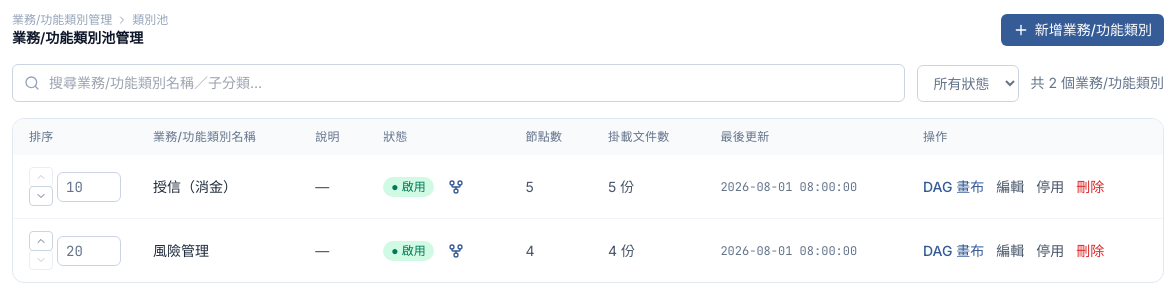
Scenario: BusinessCategoryListPage — UX16 delta AC-UX29（排序 DOM 契約，項 8） › ③ 篩選（搜尋關鍵字）生效時，上下鈕須停用或不進 DOM；清除篩選後恢復可用（成對，缺一即假綠）
expect the text "授信（消金）" is shown: met, box left=153, top=178, right=237, bottom=194
Step 1. Type "授信" into the field labelled "搜尋業務/功能類別名稱／子分類…" → (458, 83), box left=12, top=64, right=904, bottom=102
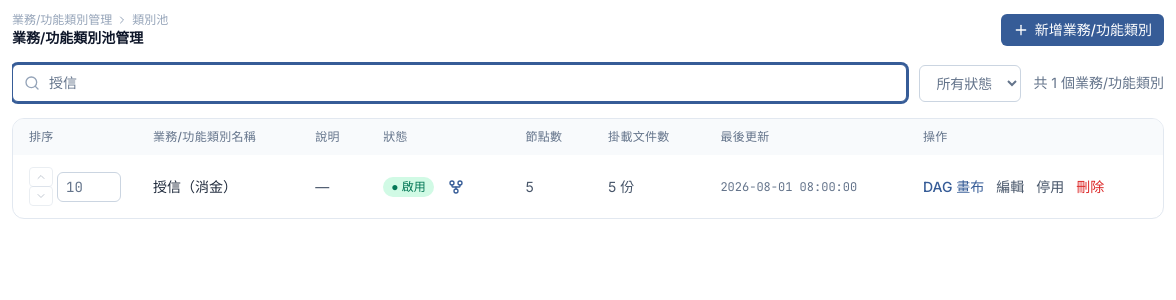
expect the button named "上移（授信（消金））" is disabled: met, box left=29, top=167, right=53, bottom=187
expect the text "風險管理" is gone: met
